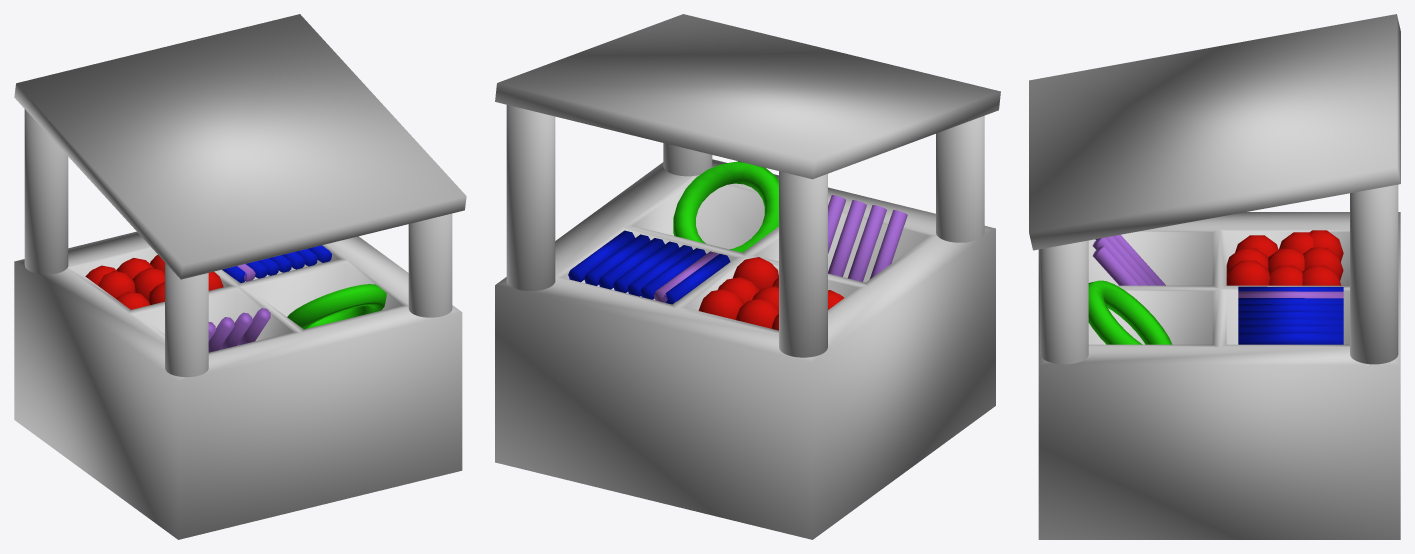
The model's file is shop.fbx.
3 renders of one model, left to right at view 1: azimuth 30°, elevation 25°; view 2: azimuth 150°, elevation 25°; view 3: azimuth 270°, elevation 25°, orthographic. The views are drawn at different scales.
Visible parts, largest first — view 1: Cube; view 2: Cube; view 3: Cube.
Boxes of the visible parts, x1,y1,x2,y2 form: Cube: (14,14,466,539); Cube: (495,14,1000,539); Cube: (1029,14,1400,539).
Size of the model in its own units: 300 by 341 by 308.
